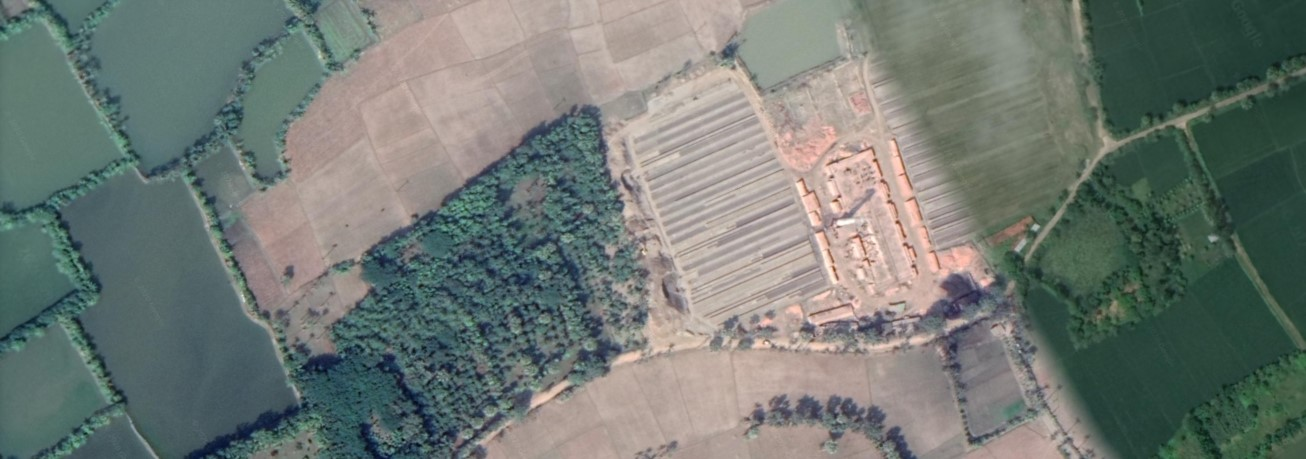kiln: (781, 161, 916, 294)
